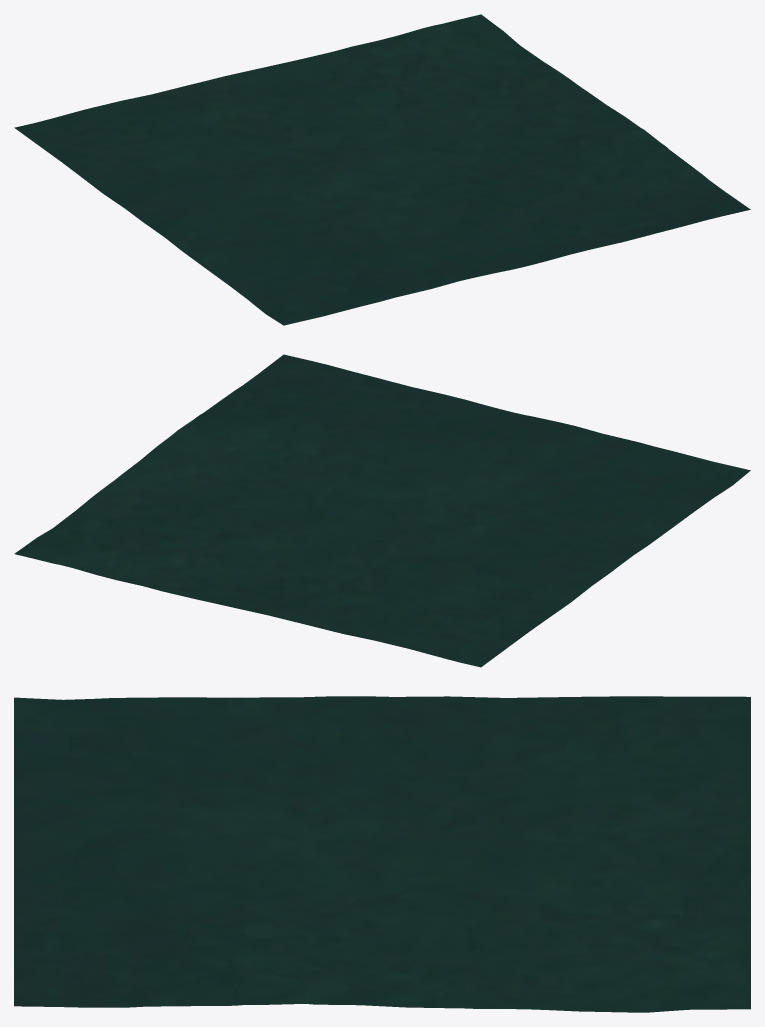
3 renders of one model, top to bottom at view 1: azimuth 30°, elevation 25°; view 2: azimuth 150°, elevation 25°; view 3: azimuth 270°, elevation 25°, orthographic. The views are drawn at different scales.
Bounding box in the file's own units: 52.22 × 0.7468 × 52.22.
2 materials, 2 textured.
